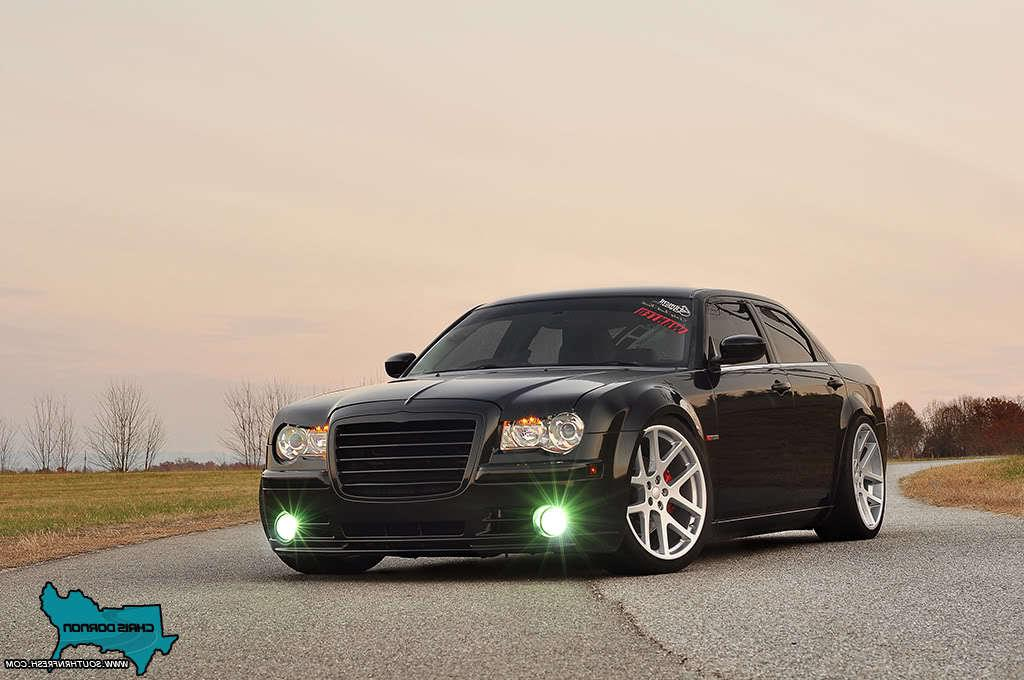Car: (245, 263, 916, 587)
